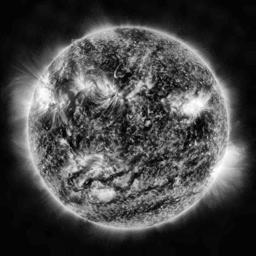solar flares: (174, 97, 209, 121), (71, 155, 105, 176), (98, 80, 122, 105), (89, 181, 115, 200), (40, 81, 53, 116), (73, 74, 90, 92)
sunspots: (106, 49, 130, 82), (188, 115, 208, 144), (60, 125, 86, 145), (156, 72, 171, 98), (124, 26, 146, 43), (118, 122, 133, 145)
